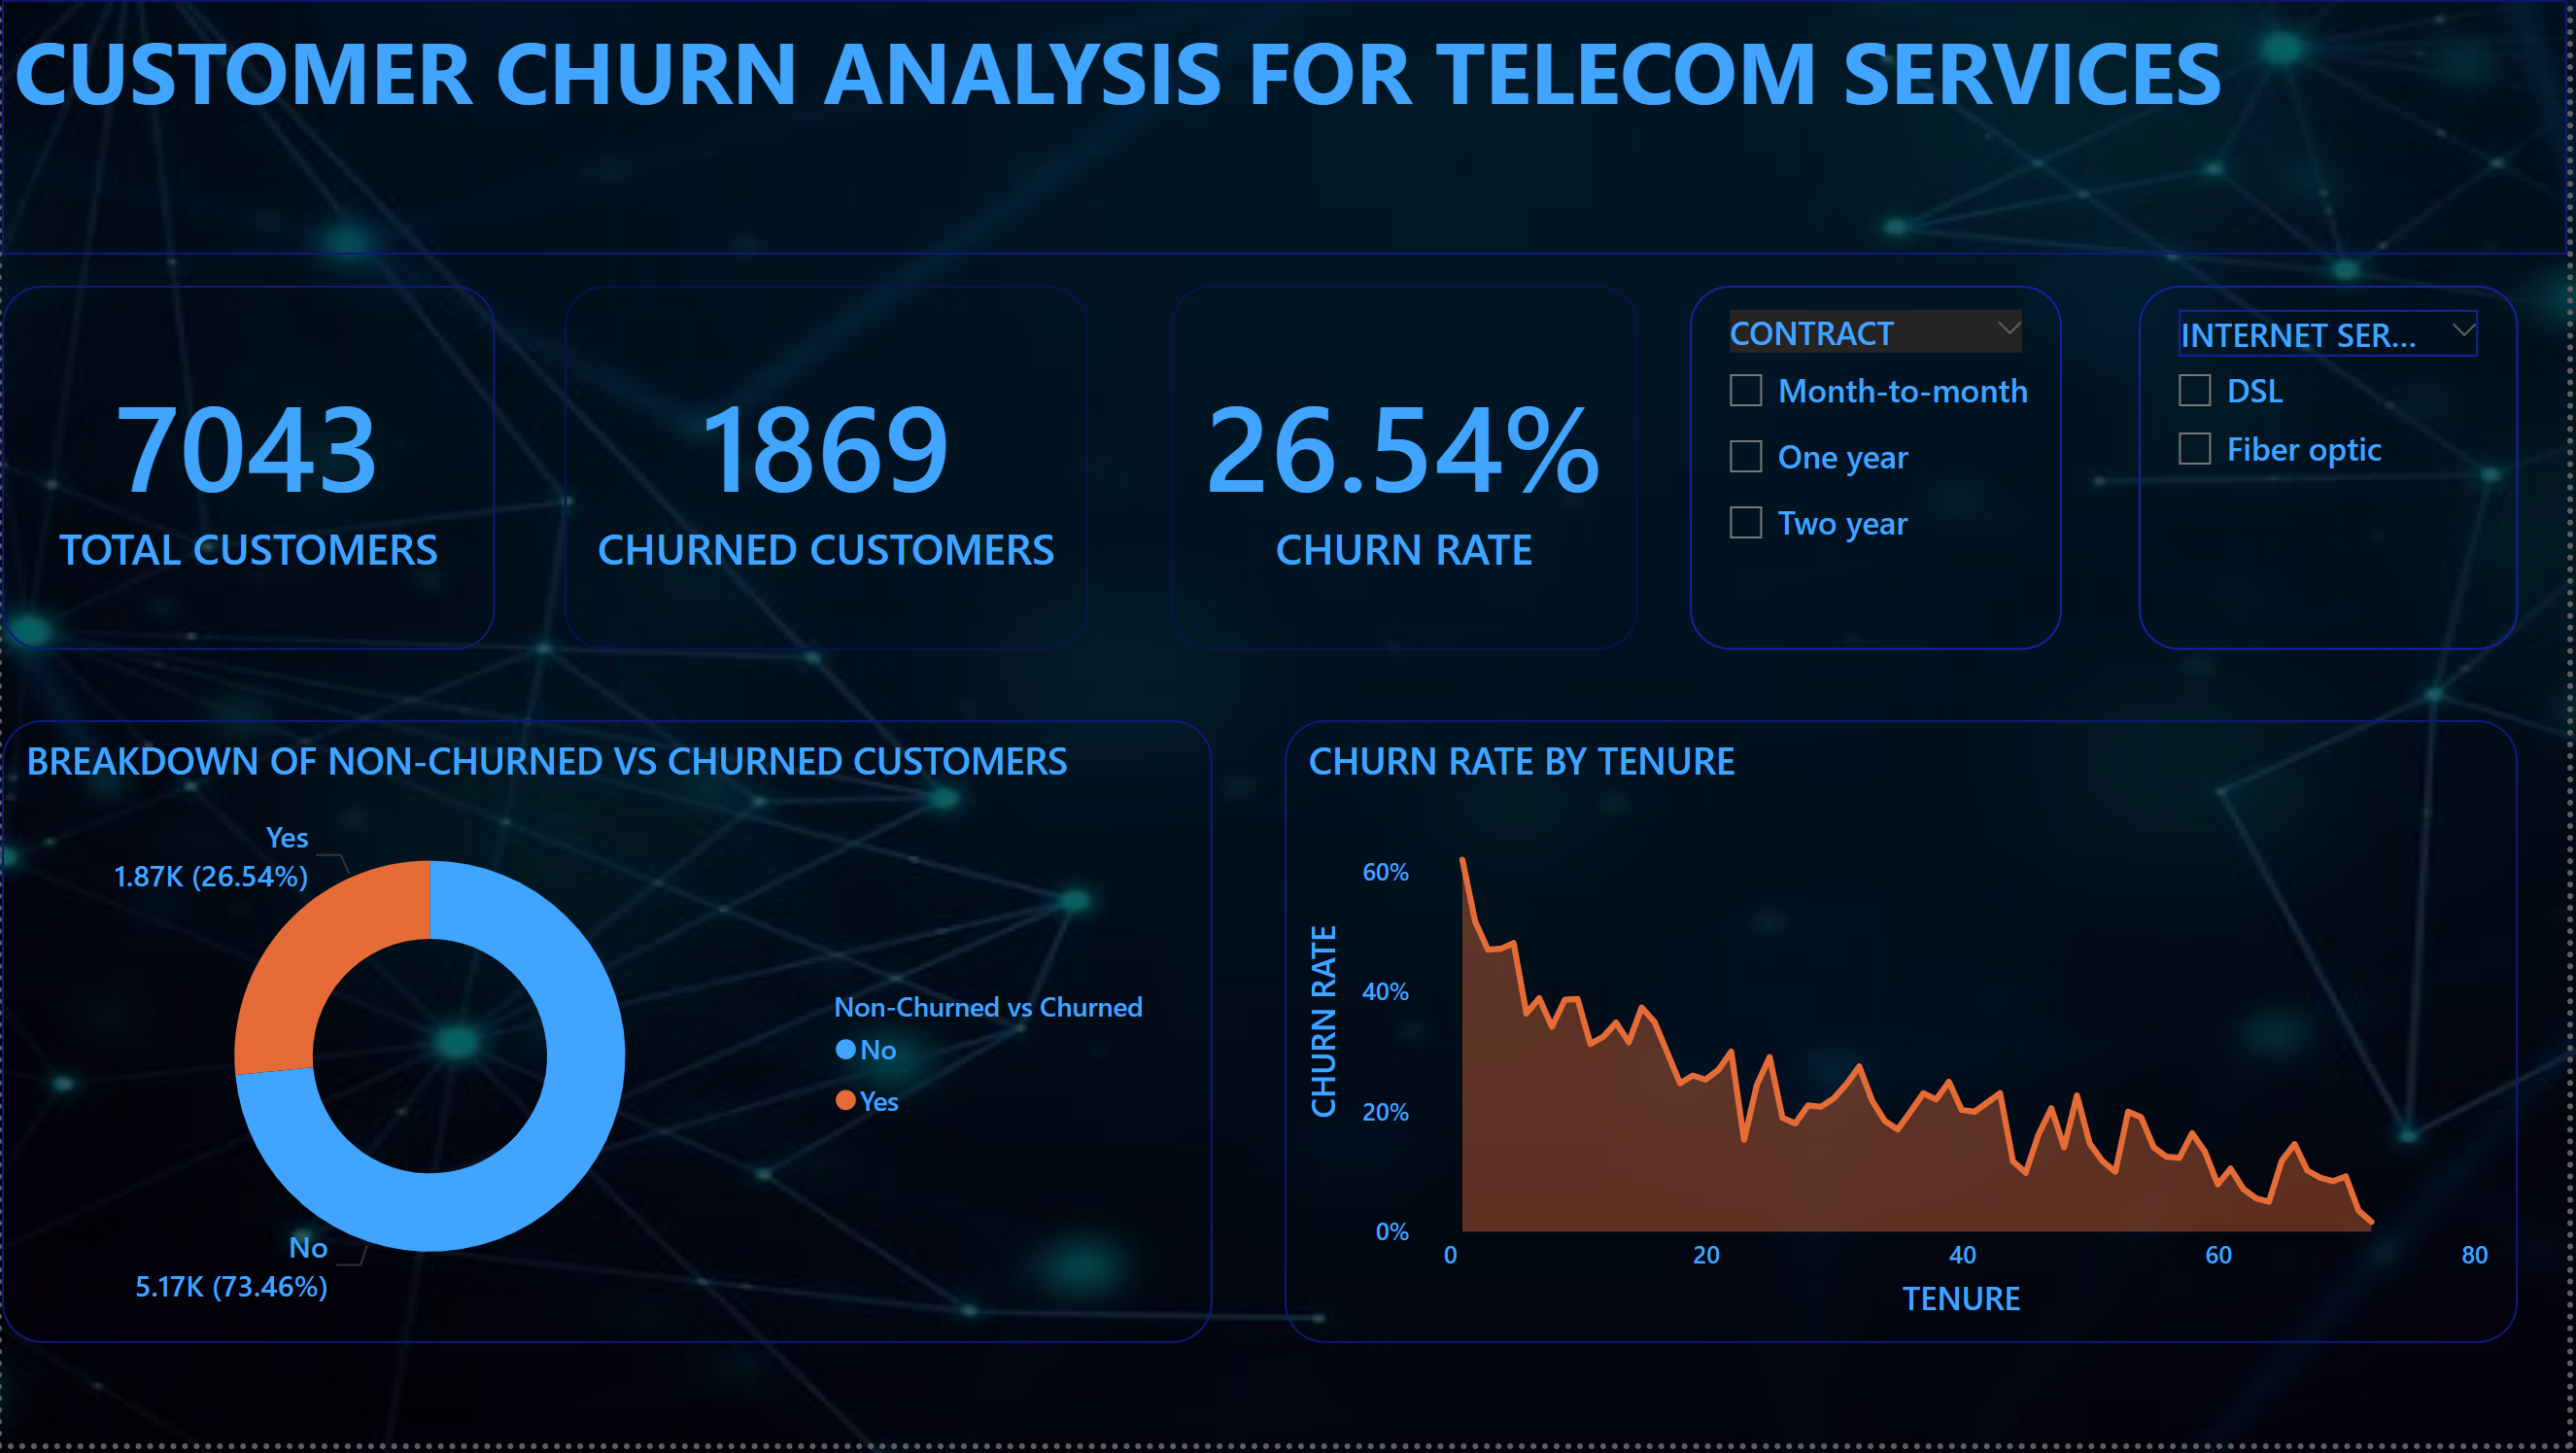

The page's visual inventory and layout, read from the dashboard file:
{"tool":"powerbi","page":{"name":"Page 1","canvas":[1280,720],"ordinal":0},"visuals":[{"type":"card","fields":{"Values":["Customer Churn.Total Customers"]},"box":[0,142,246.2,181.8],"z":0},{"type":"areaChart","title":"CHURN RATE BY TENURE","fields":{"Category":["Customer Churn.tenure"],"Y":["Customer Churn.Churn Rate"]},"box":[640,359.8,615.4,310.5],"z":1000},{"type":"donutChart","title":"BREAKDOWN OF NON-CHURNED VS CHURNED CUSTOMERS","fields":{"Category":["Customer Churn.Churn"],"Y":["CountNonNull(Customer Churn.Churn)"]},"box":[0,359.8,604,310.5],"z":2000},{"type":"card","fields":{"Values":["Customer Churn.Churned Customers"]},"box":[280.2,142,261.3,181.8],"z":3000},{"type":"card","fields":{"Values":["Customer Churn.Churn Rate"]},"box":[583.2,142,232.9,181.8],"z":4000},{"type":"textbox","box":[0,0,1280,126.9],"z":5000},{"type":"slicer","fields":{"Values":["Customer Churn.Contract"]},"box":[842.6,142,185.6,181.8],"z":6000},{"type":"slicer","fields":{"Values":["Customer Churn.InternetService"]},"box":[1066,142,189.3,181.8],"z":7000}]}

Visuals, with their boxes in screenshot pixels (x1, y1, x2, y2), scaled from the page's 1280x720 canvas onto the 2576x1453 screenshot:
card - Customer Churn.Total Customers: [left=0, top=287, right=496, bottom=653]
"CHURN RATE BY TENURE" areaChart: [left=1288, top=726, right=2526, bottom=1353]
"BREAKDOWN OF NON-CHURNED VS CHURNED CUSTOMERS" donutChart: [left=0, top=726, right=1216, bottom=1353]
card - Customer Churn.Churned Customers: [left=564, top=287, right=1089, bottom=653]
card - Customer Churn.Churn Rate: [left=1174, top=287, right=1642, bottom=653]
textbox: [left=0, top=0, right=2575, bottom=256]
slicer - Customer Churn.Contract: [left=1696, top=287, right=2069, bottom=653]
slicer - Customer Churn.InternetService: [left=2146, top=287, right=2526, bottom=653]
